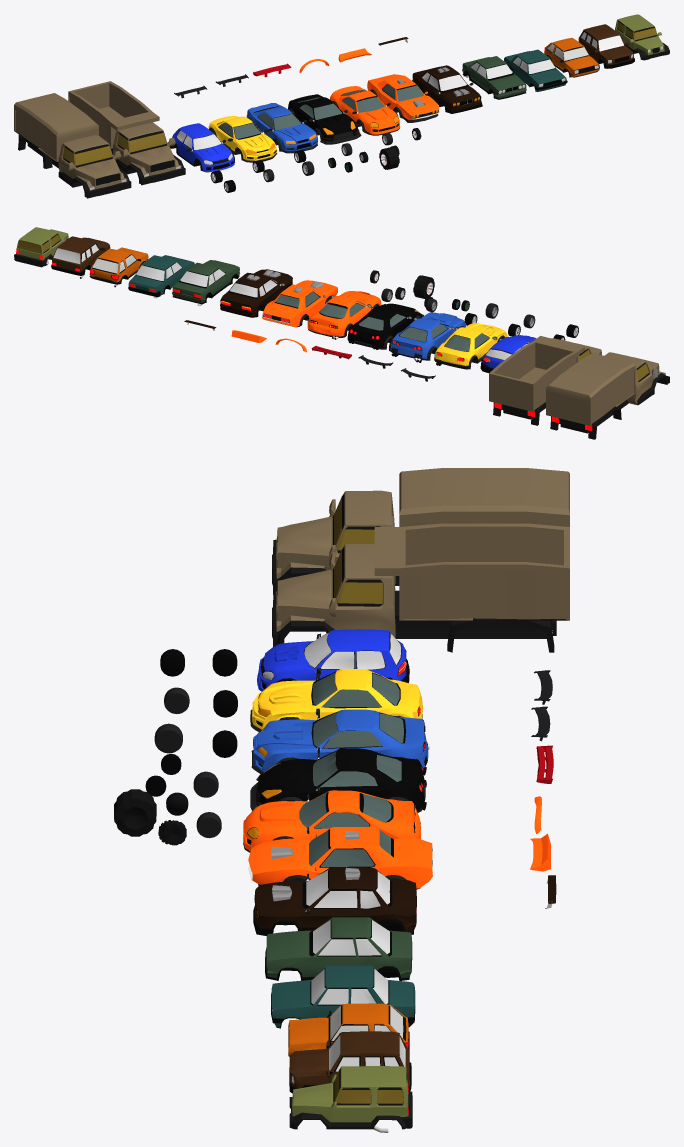
File: game_cer_aset_final.fbx
3 renders of one model, top to bottom at view 1: azimuth 30°, elevation 25°; view 2: azimuth 150°, elevation 25°; view 3: azimuth 270°, elevation 25°, orthographic. The views are drawn at different scales.
Visible parts, largest first — view 1: Cube.007, Cube, Plane.001, Plane.005, Plane.008, Plane.006, Cube.014, Plane.002, Plane.023, Cube.032, Cube.051, Cube.043 (+4 smaller); view 2: Cube.007, Cube, Plane.005, Plane.006, Cube.014, Plane.008, Plane.023, Plane.001, Cube.032, Cube.051, Cube.053, Cube.043 (+4 smaller); view 3: Cube, Cube.007, Cube.014, Plane.006, Plane.005, Cube.032, Plane.001, Cube.043, Plane.008, Plane.023, Plane.002, Cube.051 (+3 smaller).
Part boxes in pixels (<box>): Cube.007: <box>14,93,131,198</box>; Cube: <box>68,81,185,185</box>; Plane.001: <box>288,94,361,144</box>; Plane.005: <box>246,103,317,153</box>; Plane.008: <box>330,86,400,135</box>; Plane.006: <box>367,74,439,122</box>; Cube.014: <box>412,65,482,113</box>; Plane.002: <box>169,123,234,172</box>; Plane.023: <box>208,116,277,162</box>; Cube.032: <box>462,56,526,99</box>; Cube.051: <box>504,49,567,91</box>; Cube.043: <box>615,14,669,60</box>; Cube.007: <box>546,352,669,439</box>; Cube: <box>489,336,601,425</box>; Plane.005: <box>389,312,466,361</box>; Plane.006: <box>262,280,337,327</box>; Cube.014: <box>220,269,292,317</box>; Plane.008: <box>307,291,381,339</box>; Plane.023: <box>434,323,507,369</box>; Plane.001: <box>347,303,423,349</box>; Cube.032: <box>172,260,239,306</box>; Cube.051: <box>128,255,194,298</box>; Cube.053: <box>89,247,148,287</box>; Cube.043: <box>14,227,68,267</box>; Cube: <box>272,523,569,652</box>; Cube.007: <box>272,468,569,594</box>; Cube.014: <box>253,867,416,935</box>; Plane.006: <box>248,827,432,889</box>; Plane.005: <box>251,709,430,773</box>; Cube.032: <box>265,917,412,980</box>; Plane.001: <box>250,748,426,812</box>; Cube.043: <box>289,1066,412,1132</box>; Plane.008: <box>243,790,420,852</box>; Plane.023: <box>250,669,423,732</box>; Plane.002: <box>257,629,409,691</box>; Cube.051: <box>271,965,415,1028</box>.
Bounding box in the file's own units: 11391 × 970 × 3792.
